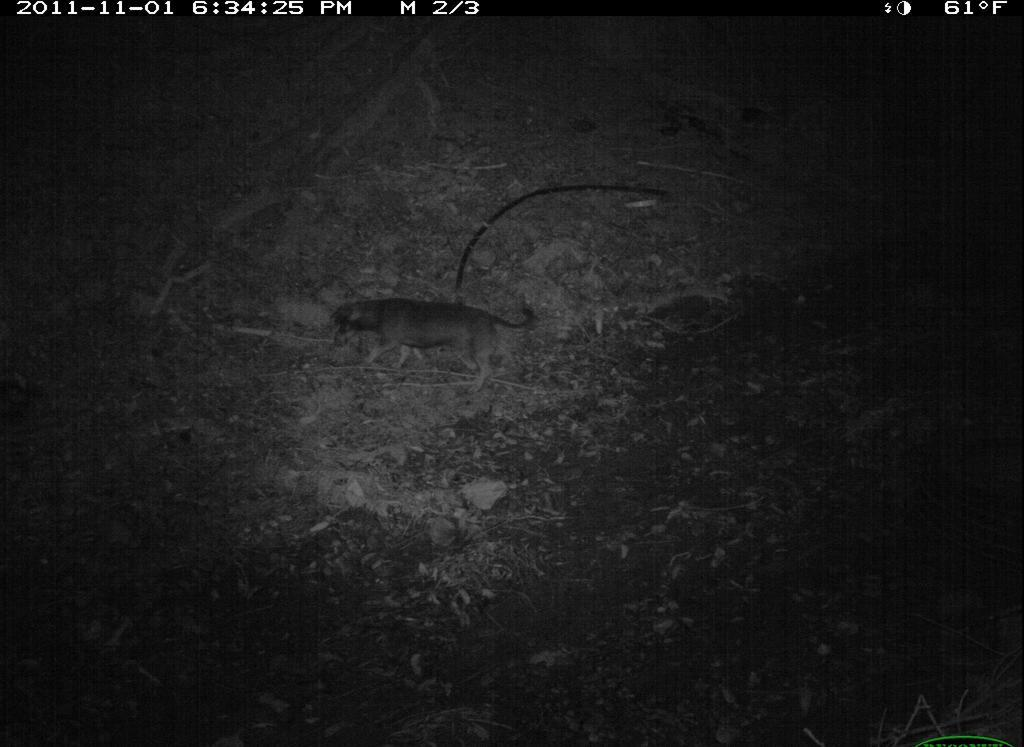dog: (328, 290, 539, 387)
